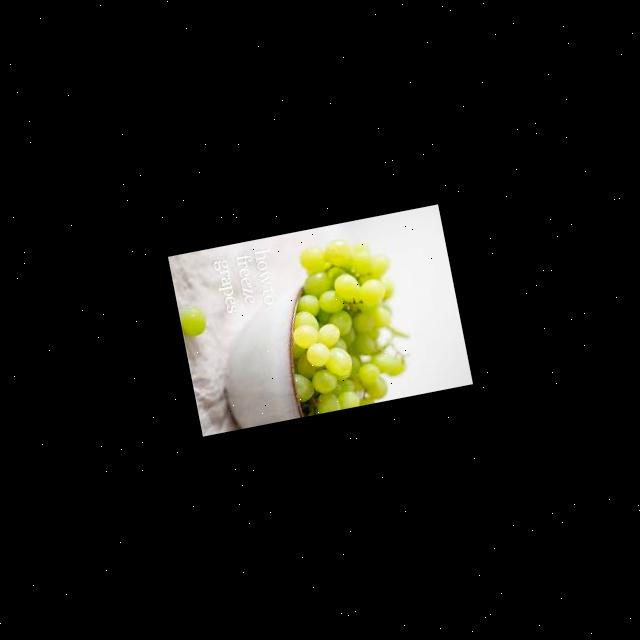grape: (268, 229, 422, 416)
